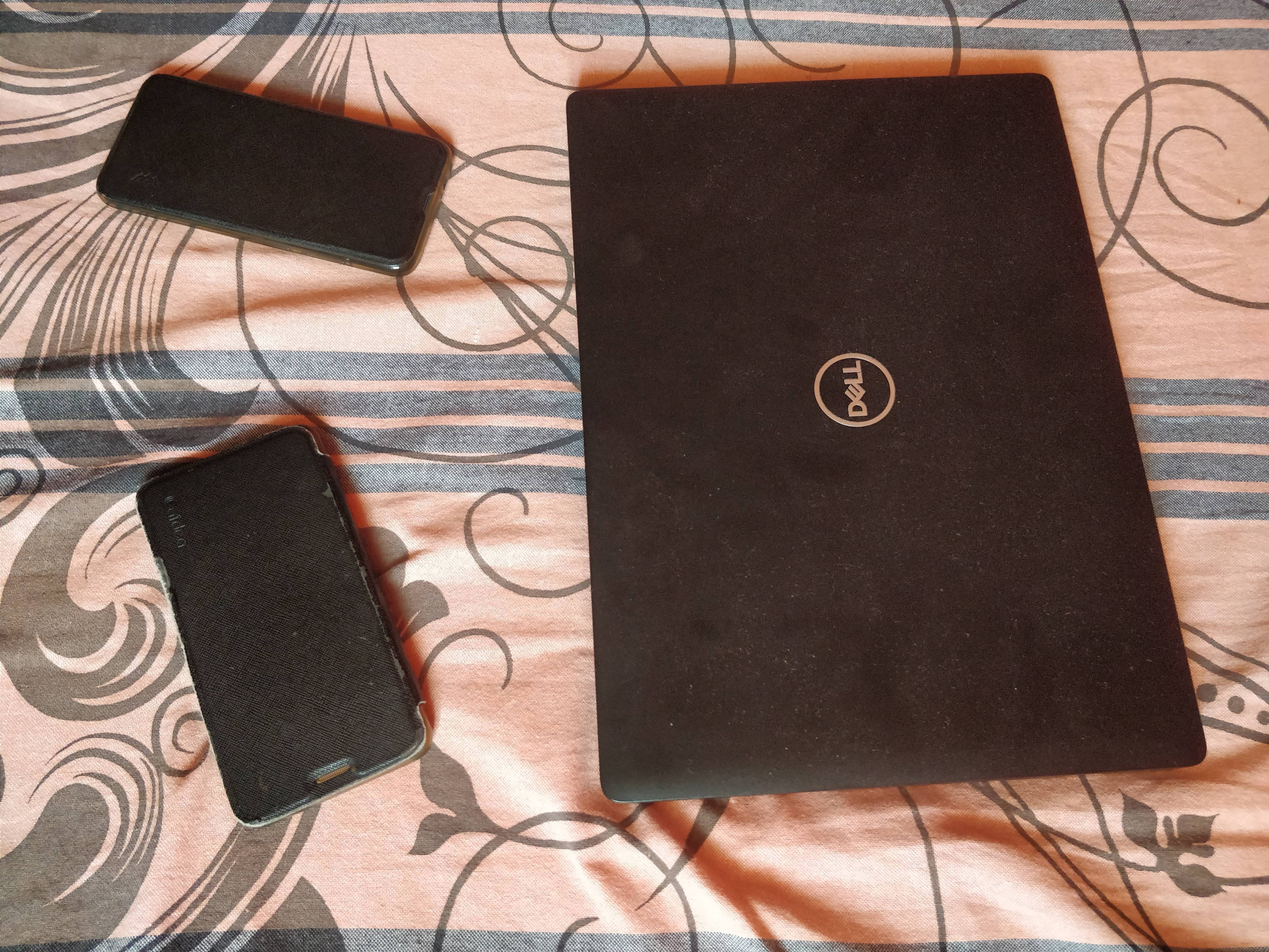Electronics: (564, 23, 1235, 841), (103, 406, 454, 844), (74, 48, 470, 294)
